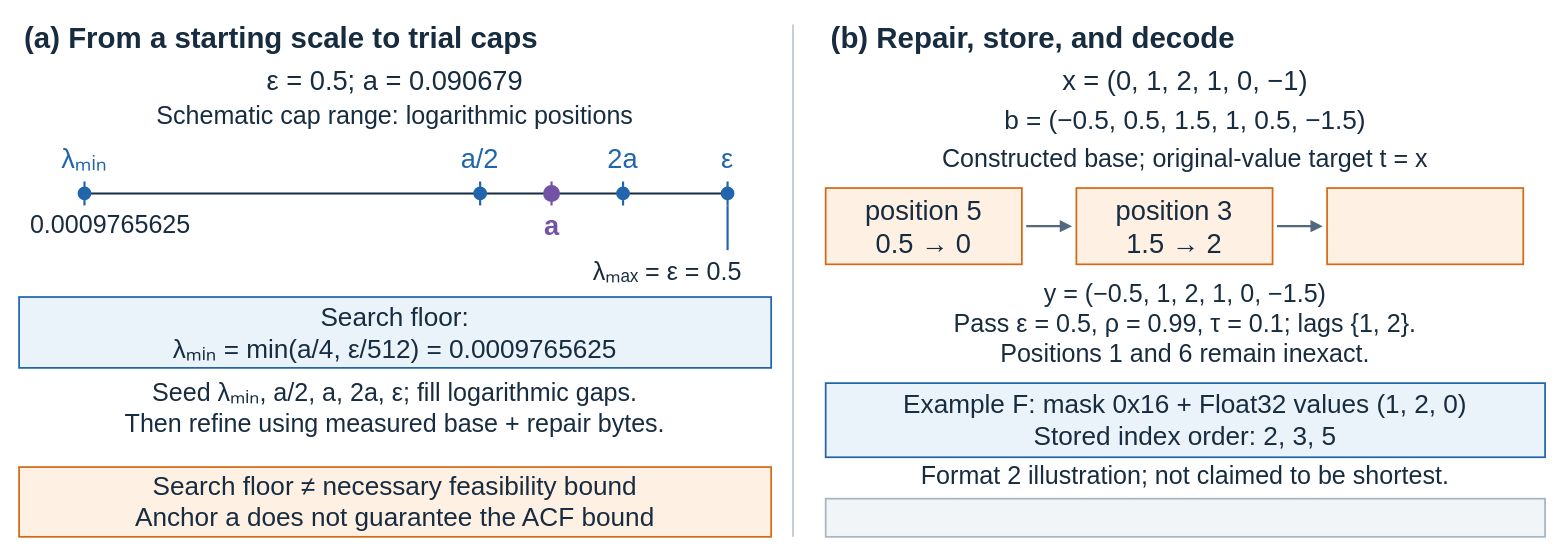
The diagram is 1565 pixels wide and 557 high, and some of its shapes have lost their labels. Here are the shapes that lost their labels. From the top down, the centre of each, then its label:
point 1425,226: position 2 0.5 → 1
point 1184,517: Receiver: decode B → apply F → y; no source needed
